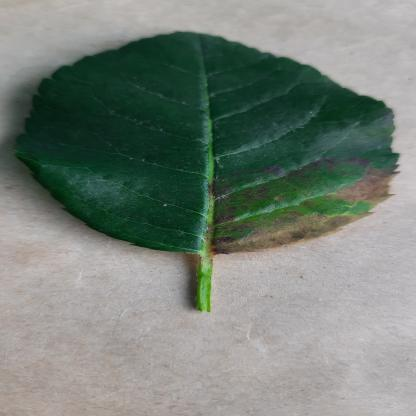powdery-mildew: (5, 30, 410, 258)
